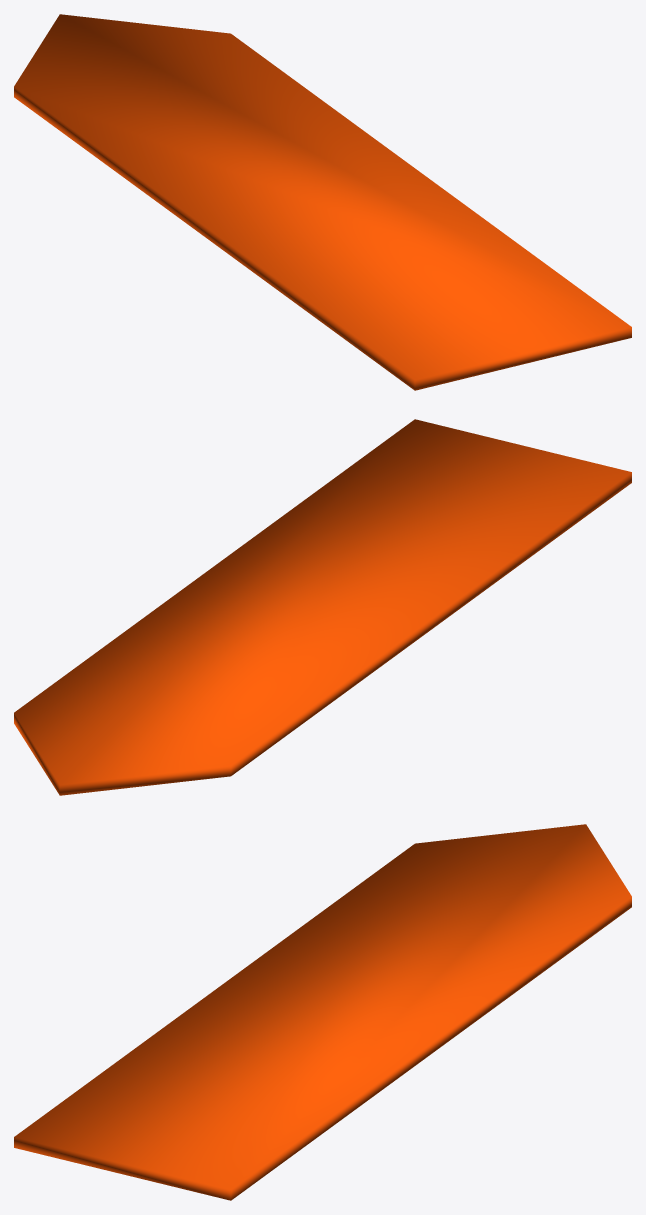
The model's file is ground_marker.glb.
The picture shows the model from 3 angles, top to bottom: view 1: azimuth 30°, elevation 25°; view 2: azimuth 150°, elevation 25°; view 3: azimuth 330°, elevation 25°; orthographic projection.
Visible parts, largest first — view 1: ground_marker__prop_orange; view 2: ground_marker__prop_orange; view 3: ground_marker__prop_orange.
Boxes of the visible parts, left/top/right/bottom form: ground_marker__prop_orange: left=14, top=14, right=631, bottom=390; ground_marker__prop_orange: left=14, top=419, right=631, bottom=795; ground_marker__prop_orange: left=14, top=824, right=631, bottom=1200.
Bounding box in the file's own units: 0.254 × 0.012 × 0.9398.
